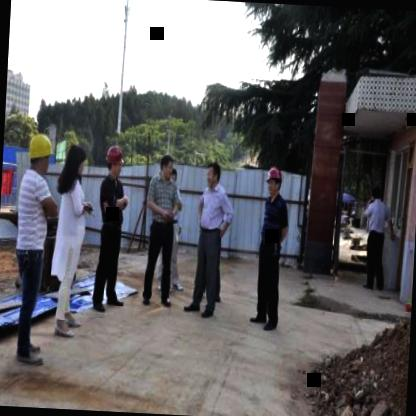head: (64, 140, 87, 184), (203, 160, 224, 190), (158, 154, 174, 180), (370, 181, 385, 207)
helmet: (26, 130, 54, 174), (104, 140, 126, 180), (262, 162, 284, 202)
